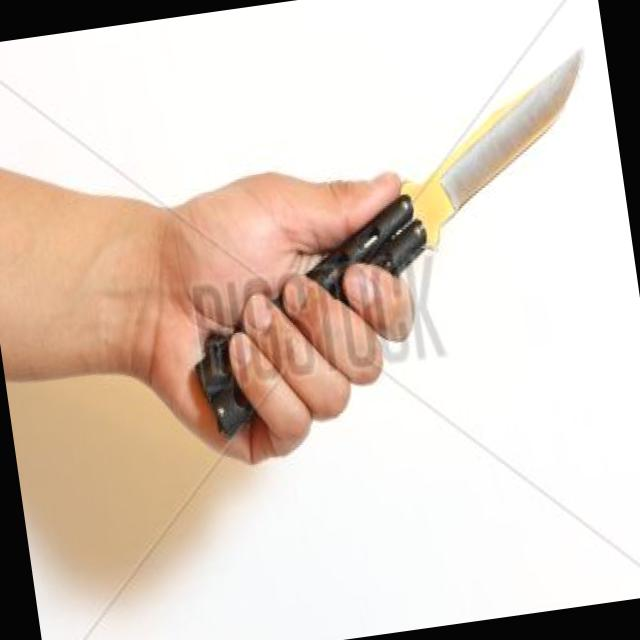knife: (274, 28, 628, 348)
